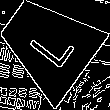L_NW: (19, 17, 75, 72)
